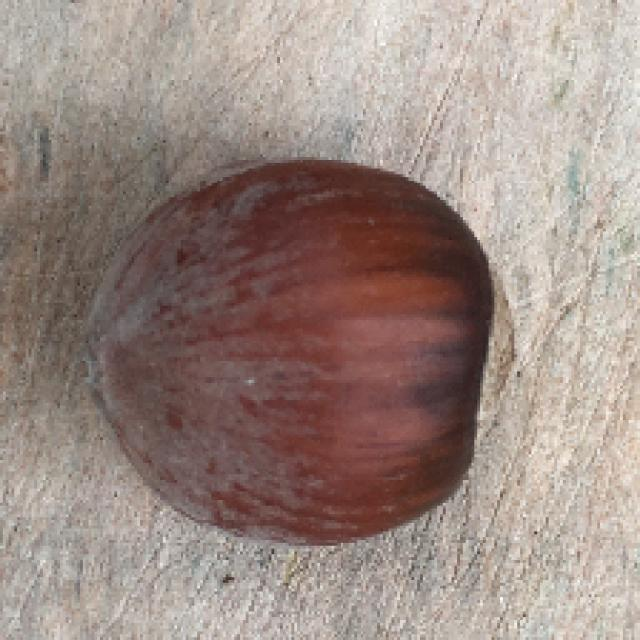QualityHazelnut: (86, 154, 527, 543)
